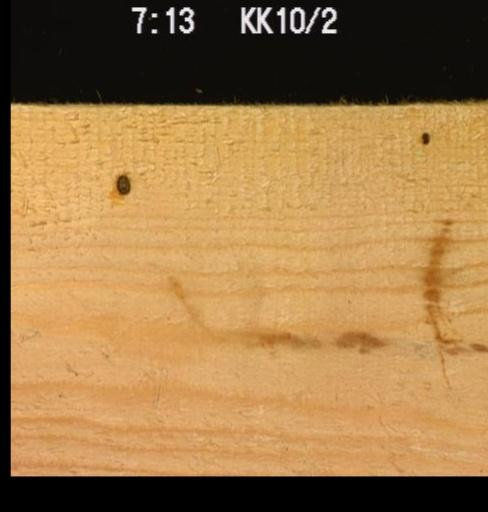dry_knot: (114, 172, 130, 195), (418, 130, 429, 145)
